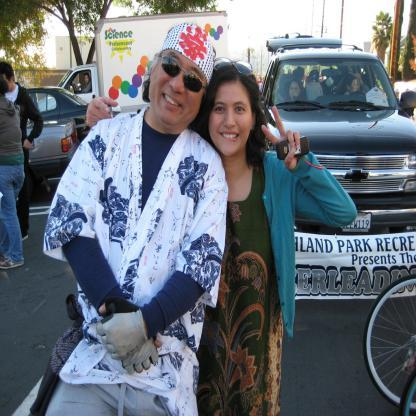car: (247, 33, 412, 236), (25, 88, 121, 140), (27, 118, 82, 194)
